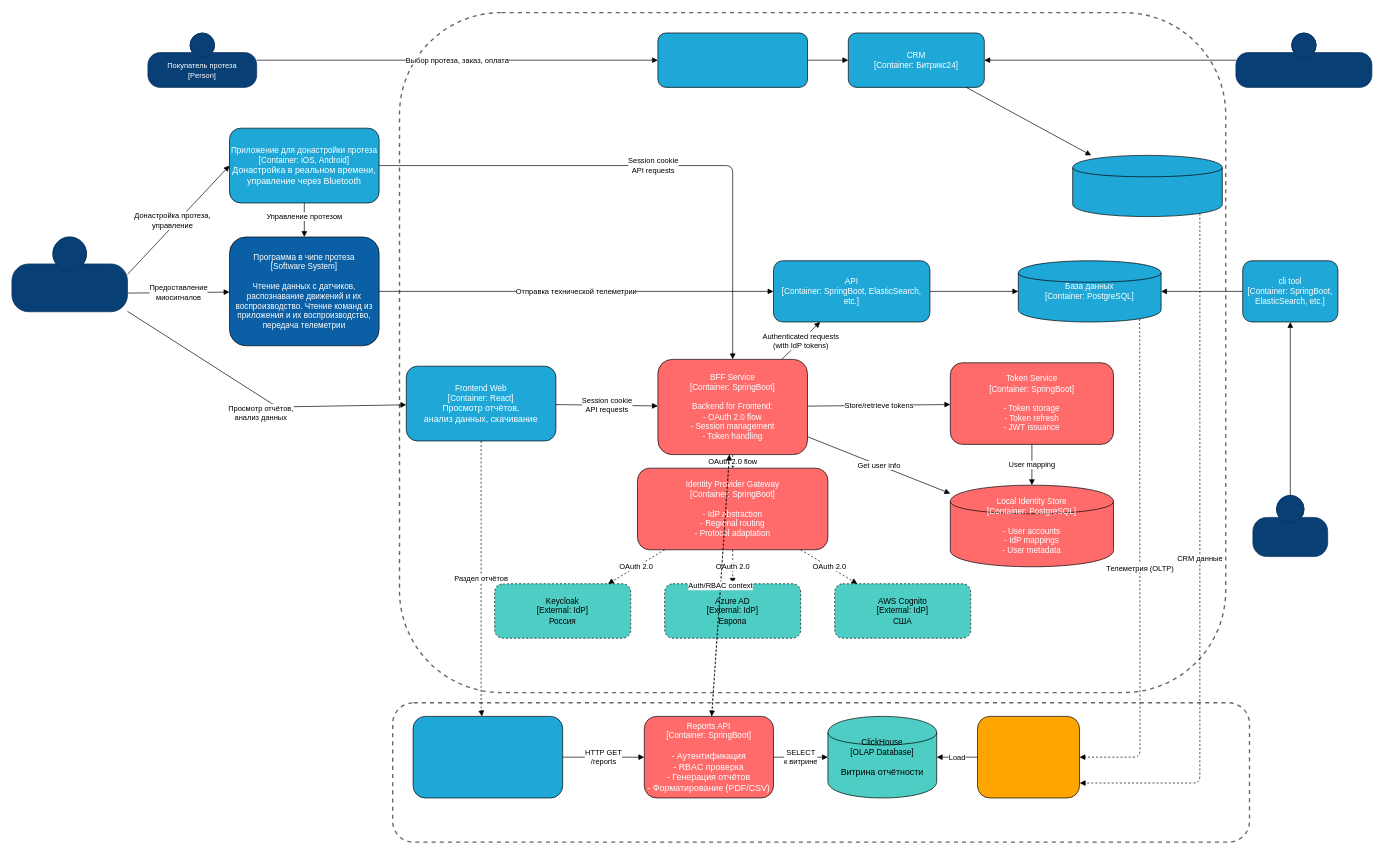
The diagram is 1384 pixels wide and 854 high, and some of its shapes have lost their labels. Each missing label, with the box of its shape:
Apache Airflow [ETL Orchestrator] ETL: Extract/Transform/Load: (977, 716, 1080, 798)
CRM DB [Container: Oracle Database 12]: (1072, 155, 1222, 217)
ML-инженер [Person]: (1252, 495, 1328, 557)
Reports Service (embedded): (392, 702, 1250, 843)
Reports UI [Container: React] Просмотр отчётов, скачивание PDF/CSV: (412, 716, 563, 798)
Интернет-магазин [Container: Битрикс24]: (657, 32, 808, 87)
Оператор производства [Person]: (1235, 32, 1372, 87)
Пилот протеза [Person] С этого человека считываются данные: (11, 236, 128, 312)
